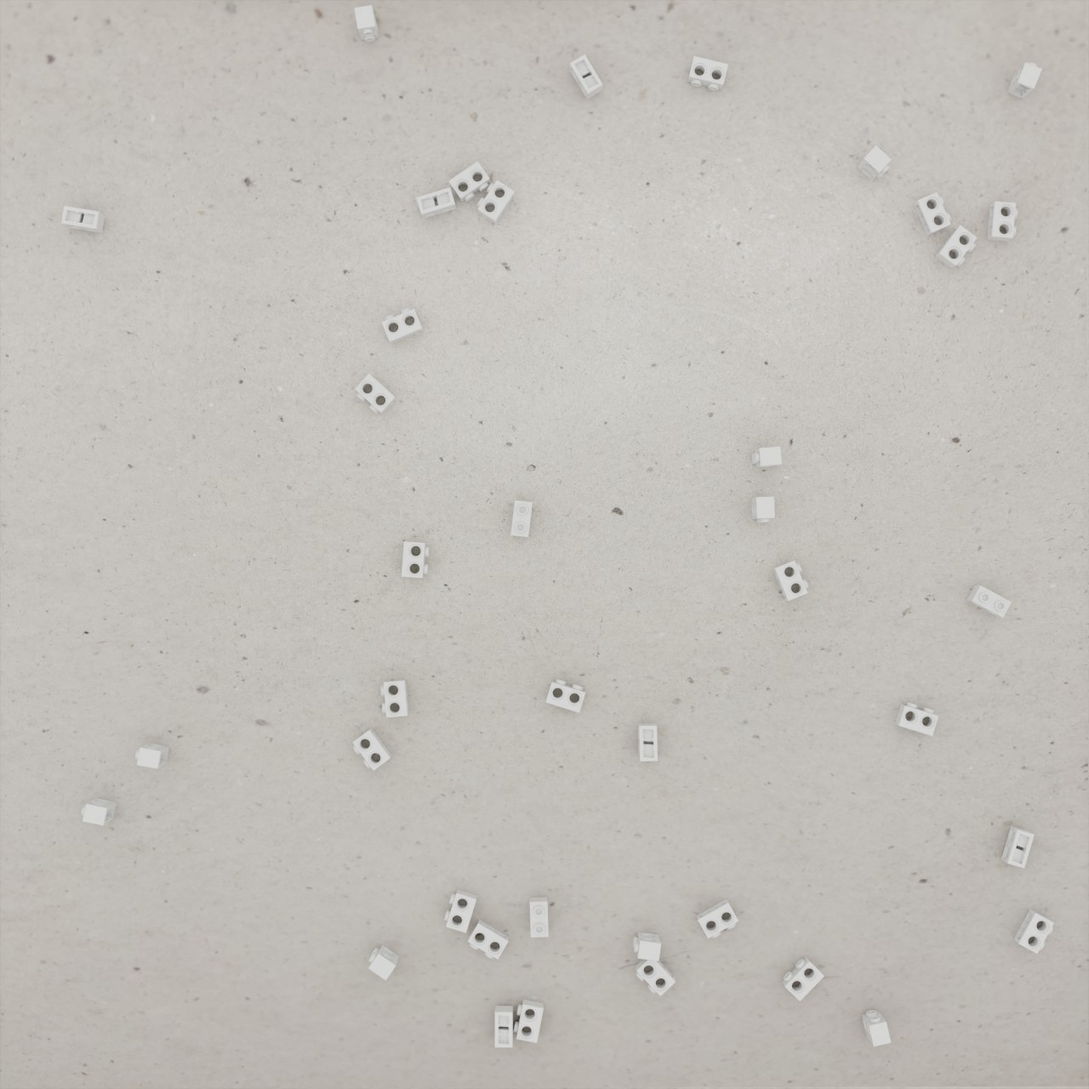lego: (782, 957, 825, 1002), (935, 225, 977, 269), (1013, 909, 1054, 954), (635, 952, 676, 996), (355, 373, 397, 414), (696, 899, 739, 939), (352, 728, 392, 771), (477, 180, 515, 225), (468, 919, 509, 960), (449, 161, 490, 202), (913, 192, 951, 236), (569, 54, 603, 100), (966, 585, 1012, 618), (772, 560, 809, 601), (382, 308, 424, 344), (895, 702, 939, 736), (444, 889, 477, 933), (1001, 826, 1035, 868), (688, 56, 728, 91), (513, 999, 544, 1043), (546, 679, 586, 713), (1007, 62, 1042, 99), (416, 187, 456, 219), (987, 201, 1018, 242), (857, 145, 892, 181), (61, 206, 105, 233), (368, 944, 399, 981), (381, 679, 409, 718), (862, 1010, 891, 1047), (401, 541, 429, 578), (81, 798, 117, 826), (354, 5, 379, 42), (135, 743, 170, 769), (511, 500, 533, 537), (633, 932, 661, 961), (530, 897, 549, 938), (638, 723, 658, 761), (495, 1006, 513, 1048), (752, 447, 782, 468), (751, 497, 775, 523)
